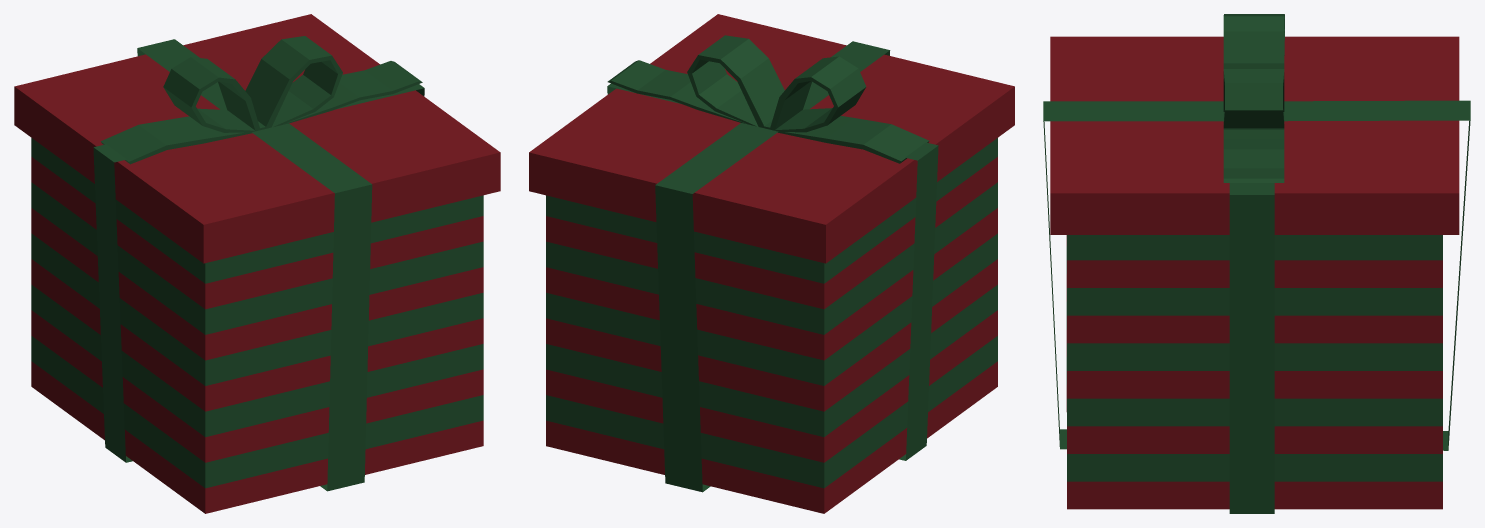
The model's file is Present_big_decor.fbx.
The picture shows the model from 3 angles, left to right: view 1: azimuth 30°, elevation 25°; view 2: azimuth 150°, elevation 25°; view 3: azimuth 270°, elevation 25°; orthographic projection. The views are drawn at different scales.
Visible parts, largest first — view 1: Present_big_decor; view 2: Present_big_decor; view 3: Present_big_decor.
Part boxes in pixels (x1=…): Present_big_decor: x1=14, y1=14, x2=500, y2=513; Present_big_decor: x1=529, y1=14, x2=1014, y2=513; Present_big_decor: x1=1043, y1=14, x2=1470, y2=513.
Size of the model in its own units: 0.2226 by 0.252 by 0.2454.
